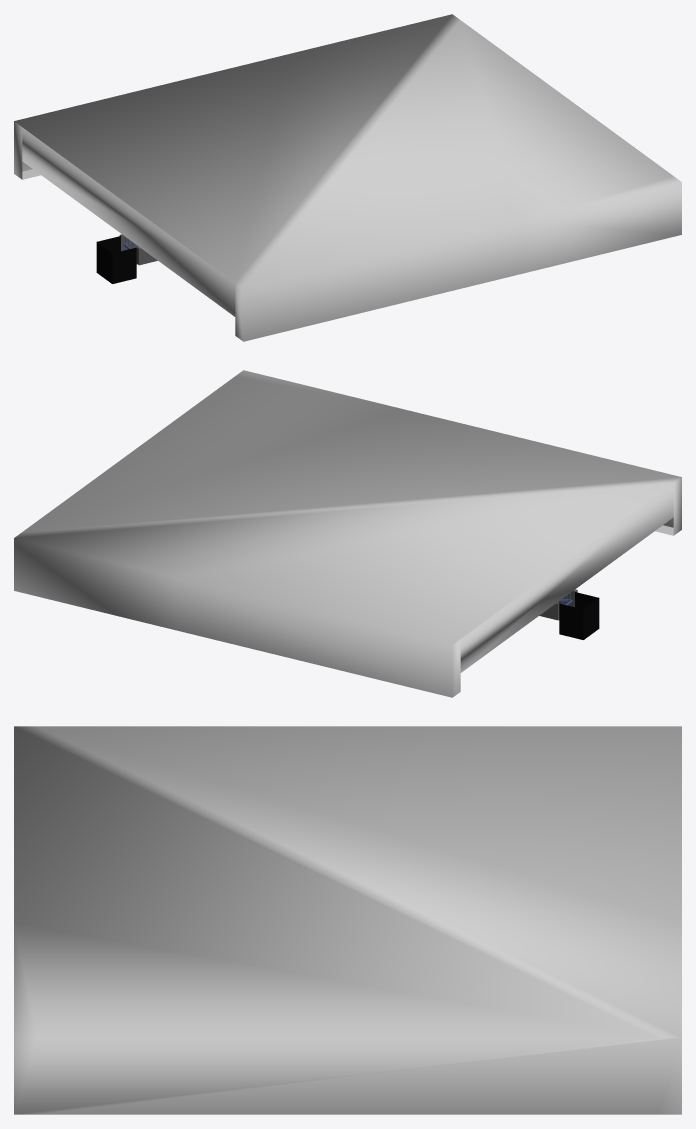
File: alley.fbx
3 renders of one model, top to bottom at view 1: azimuth 30°, elevation 25°; view 2: azimuth 150°, elevation 25°; view 3: azimuth 270°, elevation 25°, orthographic. The views are drawn at different scales.
Parts seen in each view (by area): view 1: Walls, CatchBox; view 2: Walls, CatchBox; view 3: Walls.
Boxes of the visible parts, x1,y1,x2,y2 form: Walls: (14,14,681,341); CatchBox: (96,236,136,283); Walls: (14,370,681,697); CatchBox: (559,592,599,639); Walls: (14,726,681,1114).
Size of the model in its own units: 3218 by 448 by 2765.
